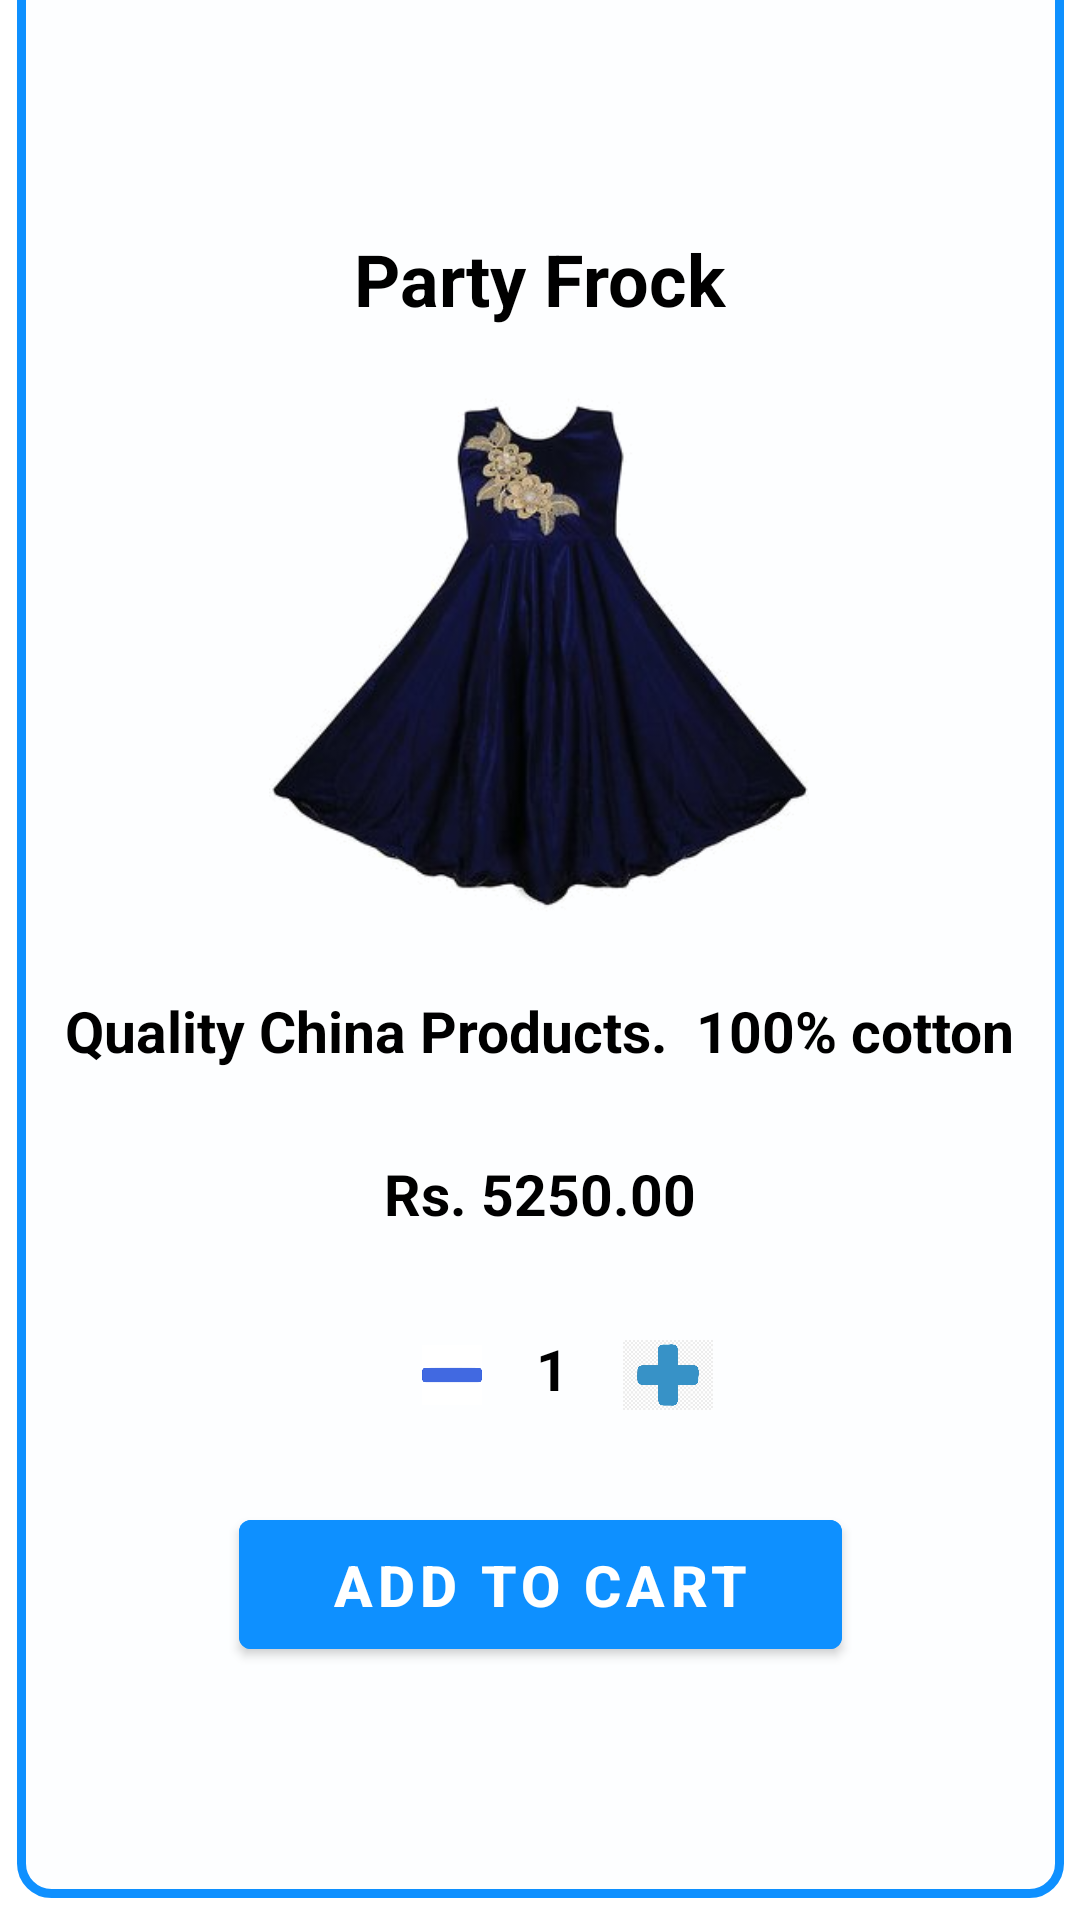

Where to tap for icons on this 1080 x 1920 app screen, as (x,y):
minus: (452,1375)
plus: (668,1375)
